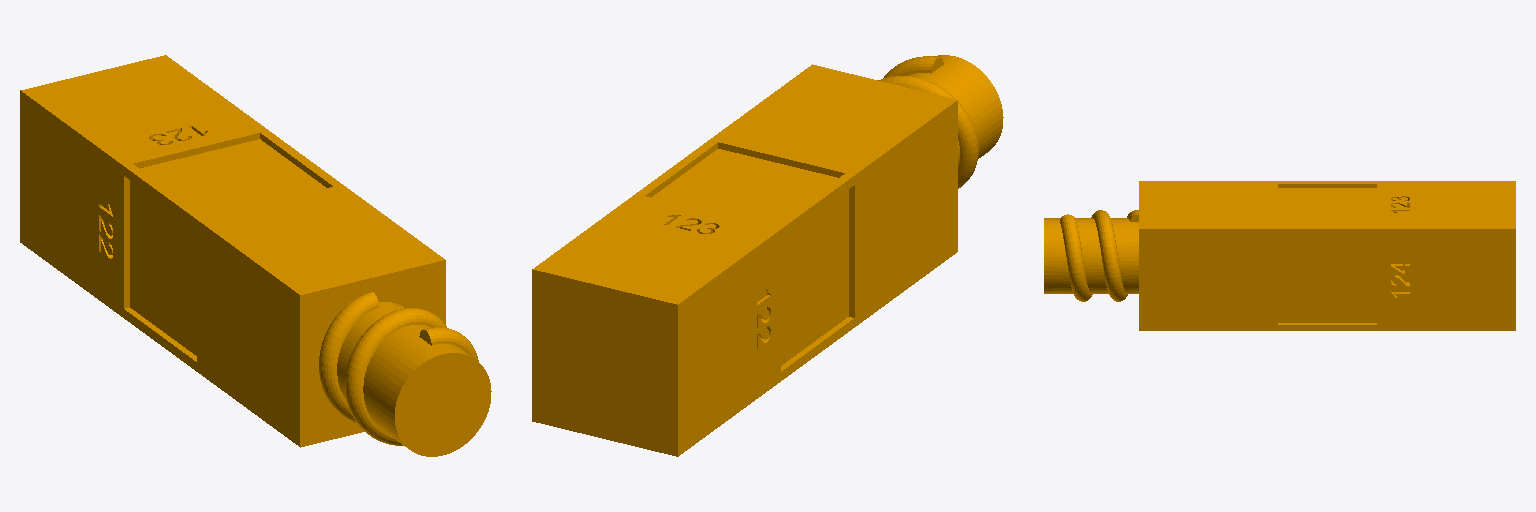
robot.urdf — desk_leg3:
<?xml version="1.0"?>
<robot name="desk_leg3">
    <link name="desk_leg3">
        <visual>
            <geometry>
                <mesh filename="../../mesh/desk/desk_leg3.obj" scale="1 1 1"/>
            </geometry>
        </visual>
        <collision>
            <geometry>
                <mesh filename="../../mesh/desk/desk_leg3.obj" scale="1 1 1"/>
            </geometry>
            <sdf resolution="512"/>
        </collision>
    </link>
</robot>

--- Facts derived from the render (not from the file) ---
3 views of the same robot in one strip: view 1: azimuth 30°, elevation 25°; view 2: azimuth 150°, elevation 25°; view 3: azimuth 270°, elevation 25° (orthographic).
Model desk_leg3 with 1 links and 0 joints (none), rooted at desk_leg3, posed every joint at zero.
Links seen in each view (by area): view 1: desk_leg3; view 2: desk_leg3; view 3: desk_leg3.
Link boxes in pixels (x1,y1,x2,y2): desk_leg3: (20,55,491,456); desk_leg3: (532,55,1003,456); desk_leg3: (1044,181,1515,330).
Bounding box of the posed robot: 0.03 × 0.125 × 0.03 m (x, y, z).
1 mesh visuals loaded from 1 distinct referenced files (1 OBJ).